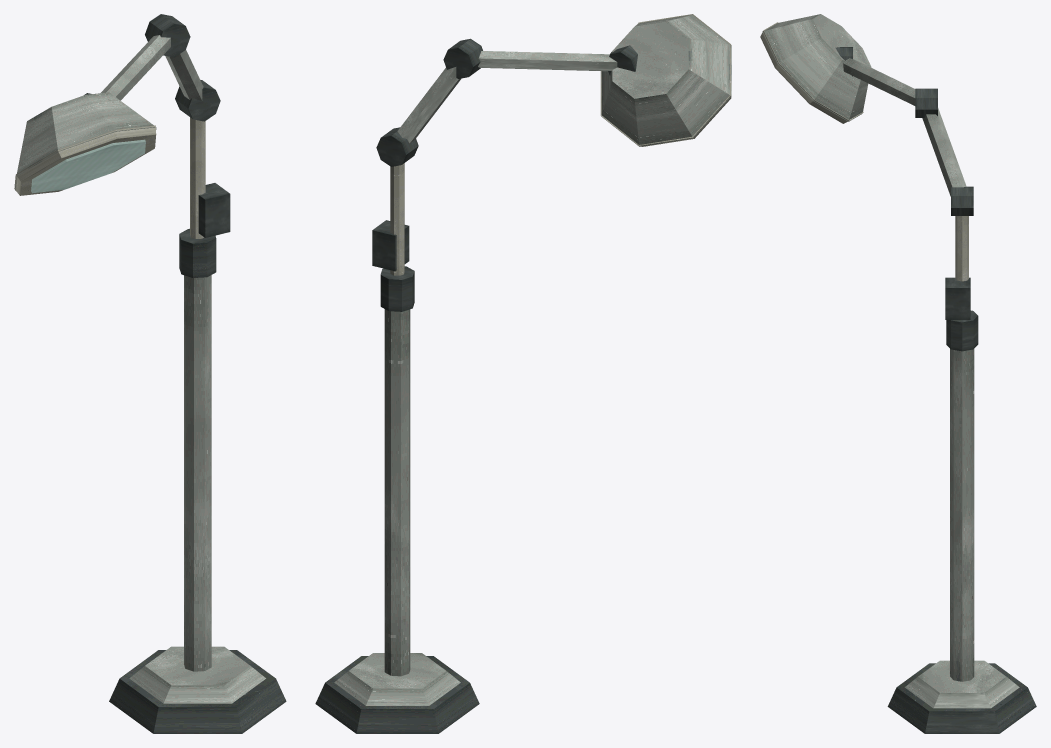
The model's file is medbay_exam_lamp.glb.
3 renders of one model, left to right at view 1: azimuth 30°, elevation 25°; view 2: azimuth 150°, elevation 25°; view 3: azimuth 270°, elevation 25°, orthographic. The views are drawn at different scales.
Visible parts, largest first — view 1: LampMesh; view 2: LampMesh; view 3: LampMesh.
Boxes of the visible parts, x1,y1,x2,y2 form: LampMesh: (14,14,286,733); LampMesh: (315,14,731,733); LampMesh: (760,14,1036,733).
Size of the model in its own units: 0.9224 by 1.88 by 0.7789.
5 materials, 5 textured.
